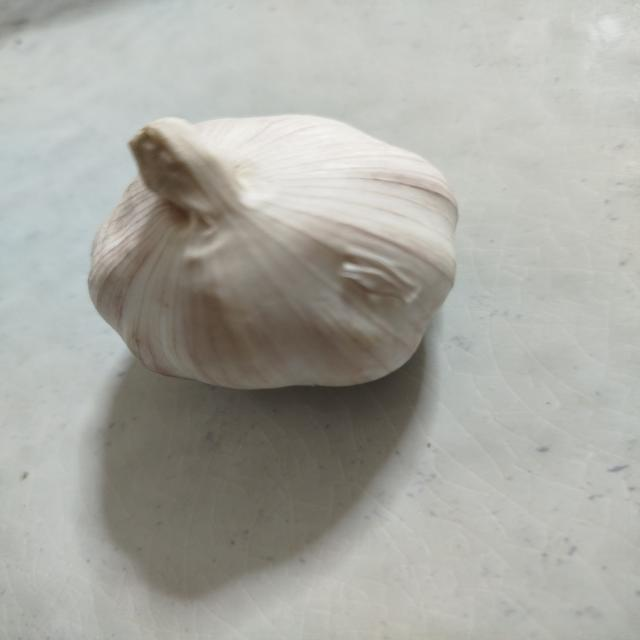garlic: (87, 112, 459, 390)
